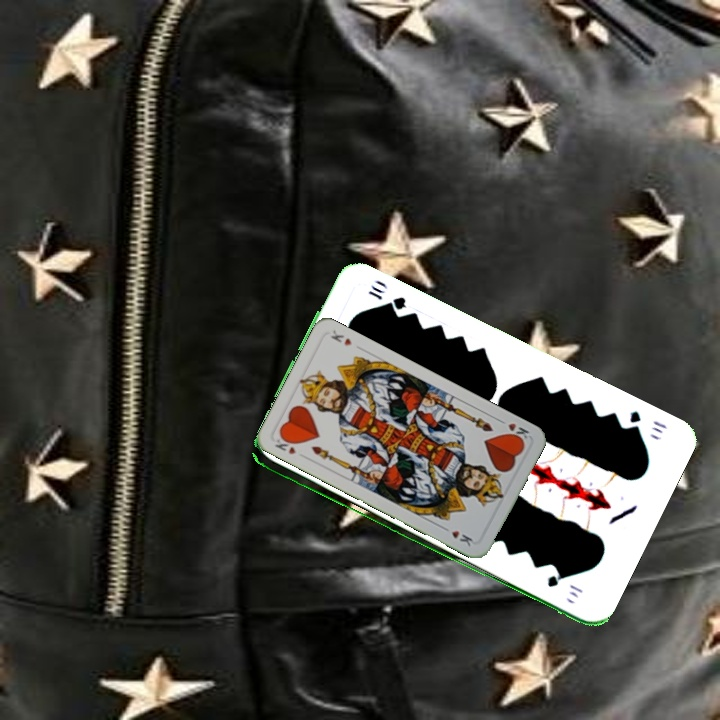G10: (622, 407, 669, 437)
HK: (503, 419, 532, 445), (271, 432, 299, 457)
